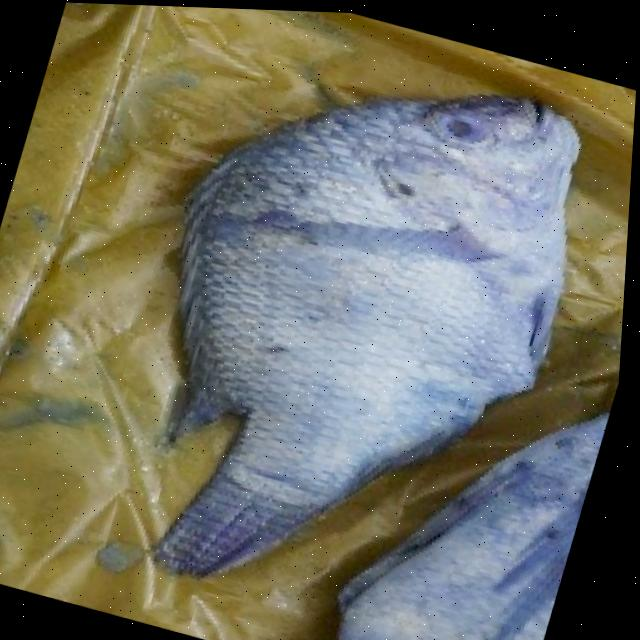Non-Fresh: (161, 13, 595, 506)
